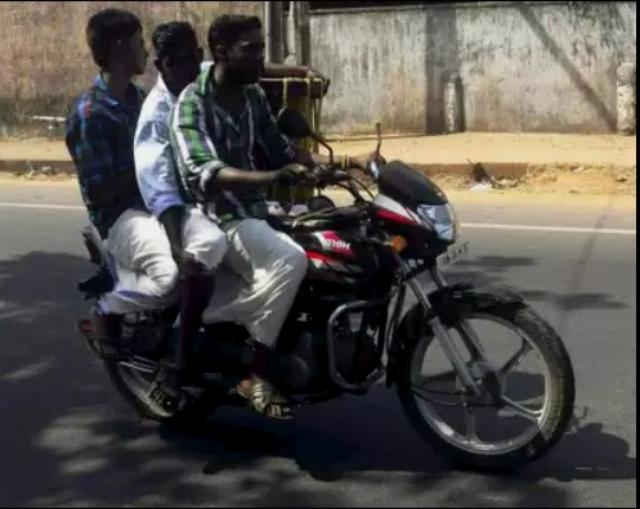licensePlate: (434, 240, 471, 272)
motorcycle: (69, 6, 572, 474)
withoutHelmet: (89, 9, 141, 90), (212, 14, 270, 86), (155, 22, 201, 93)
